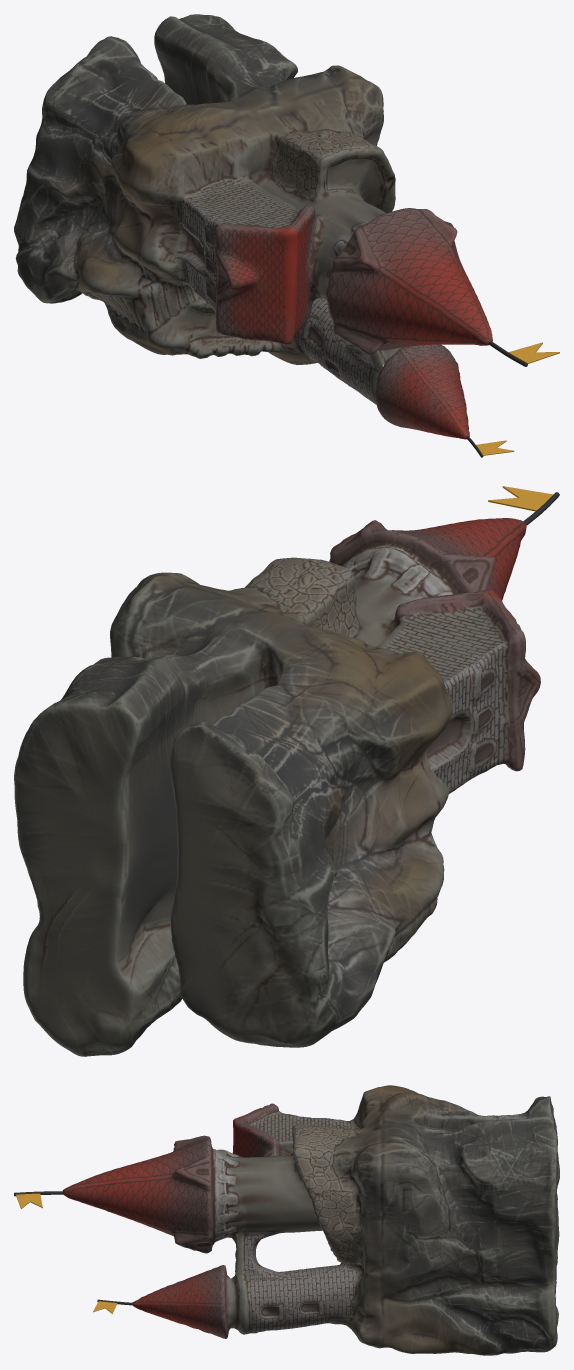
The model's file is 13020_Aquarium_Castle_v1_L1.gltf.
3 views of the same model, one above another, from view 1: azimuth 30°, elevation 25°; view 2: azimuth 150°, elevation 25°; view 3: azimuth 270°, elevation 25° (orthographic). The views are drawn at different scales.
Visible parts, largest first — view 1: 13020_Aquarium_Castle; view 2: 13020_Aquarium_Castle; view 3: 13020_Aquarium_Castle.
Part boxes in pixels (x1,y1,x2,y2): 13020_Aquarium_Castle: (14, 14, 559, 457); 13020_Aquarium_Castle: (14, 486, 559, 1056); 13020_Aquarium_Castle: (14, 1085, 559, 1355).
Size of the model in its own units: 8.75 by 9.21 by 20.27.
Materials: 1 (1 with a texture image).
